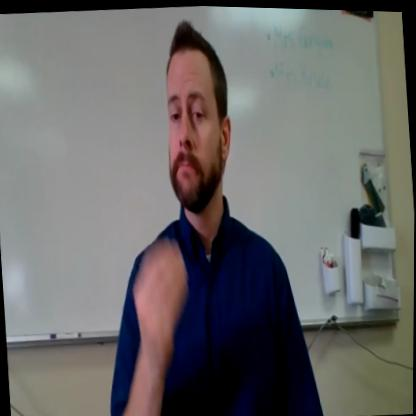Food: (109, 13, 289, 363)
